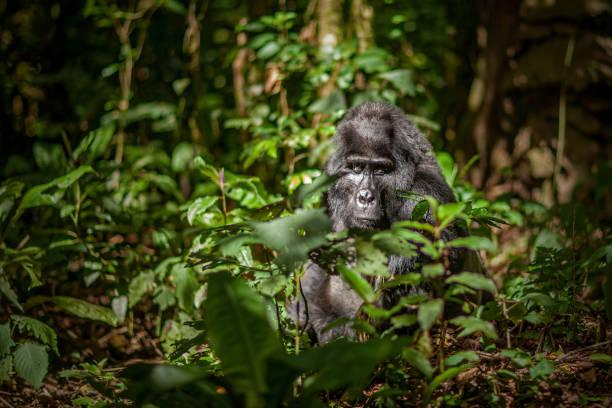goriile_montagne: (297, 88, 461, 347)
